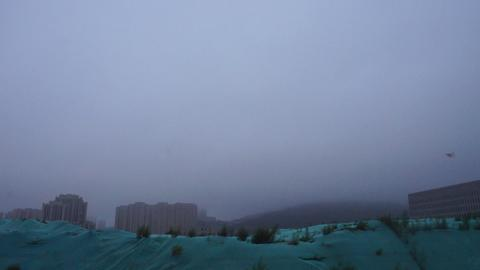UAV: (445, 152, 455, 158)
